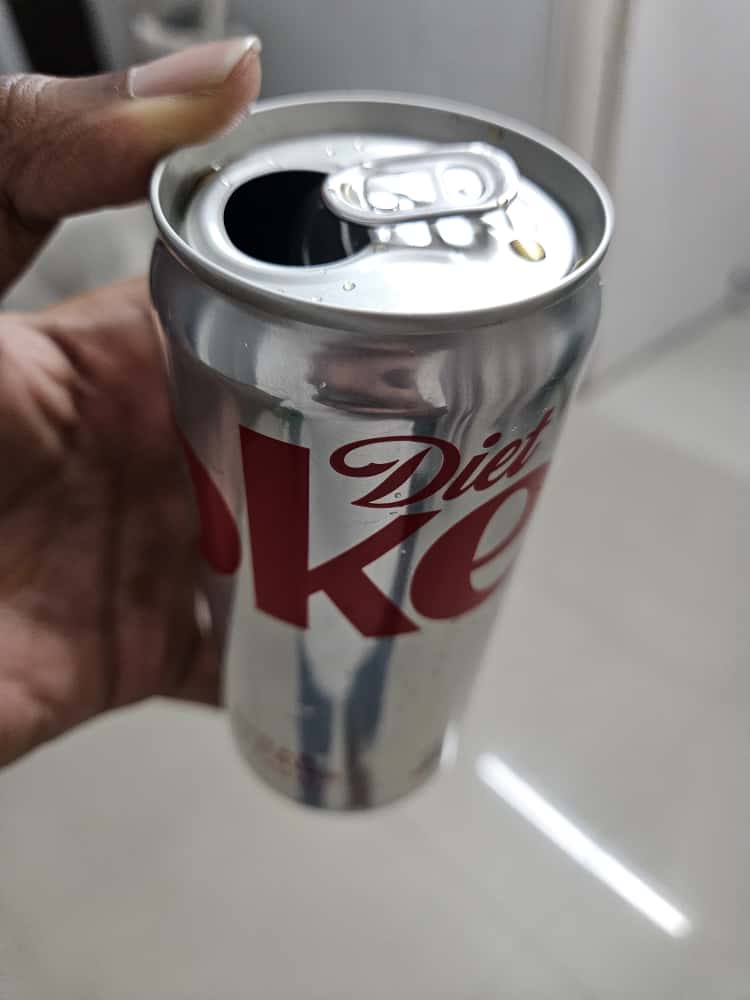dry: (146, 98, 626, 815)
